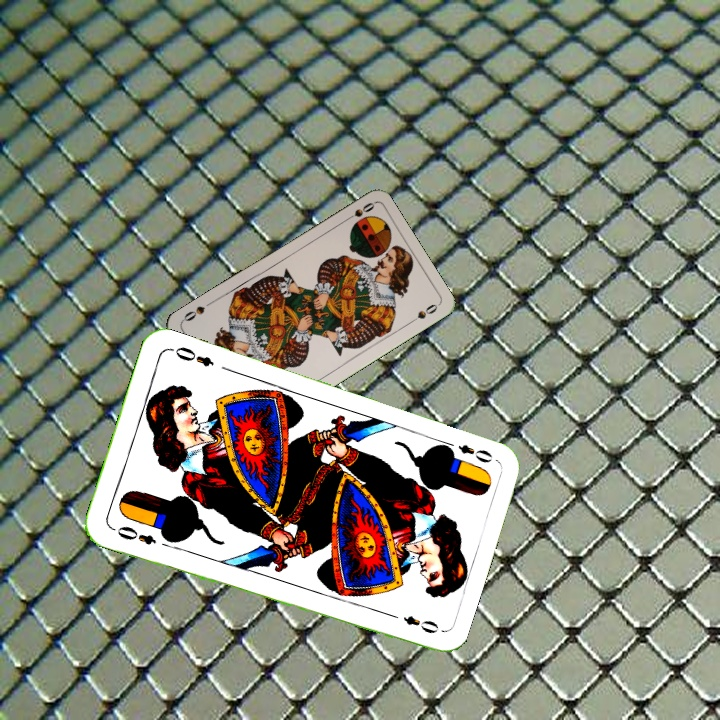EO: (440, 437, 495, 466), (107, 522, 159, 548)
SO: (340, 198, 377, 225)
